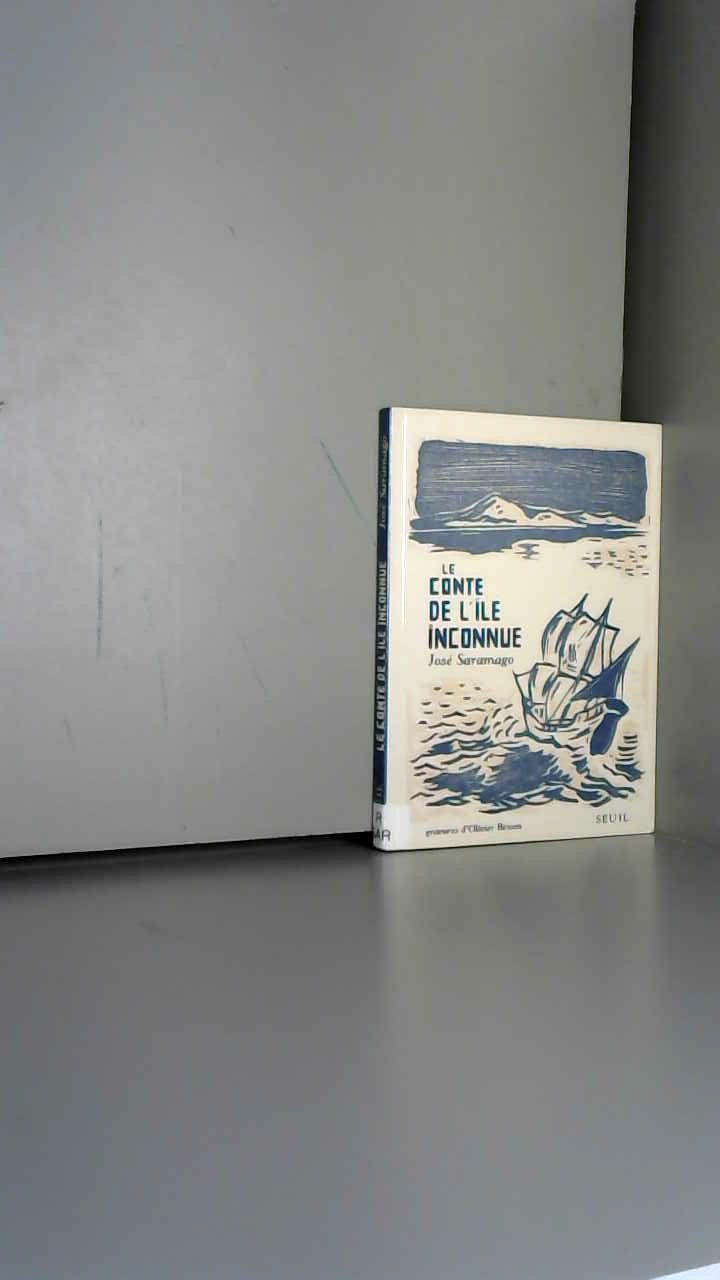book: (350, 380, 720, 889)
